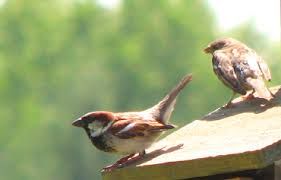hsparrow: (69, 73, 202, 176), (201, 32, 281, 129)
